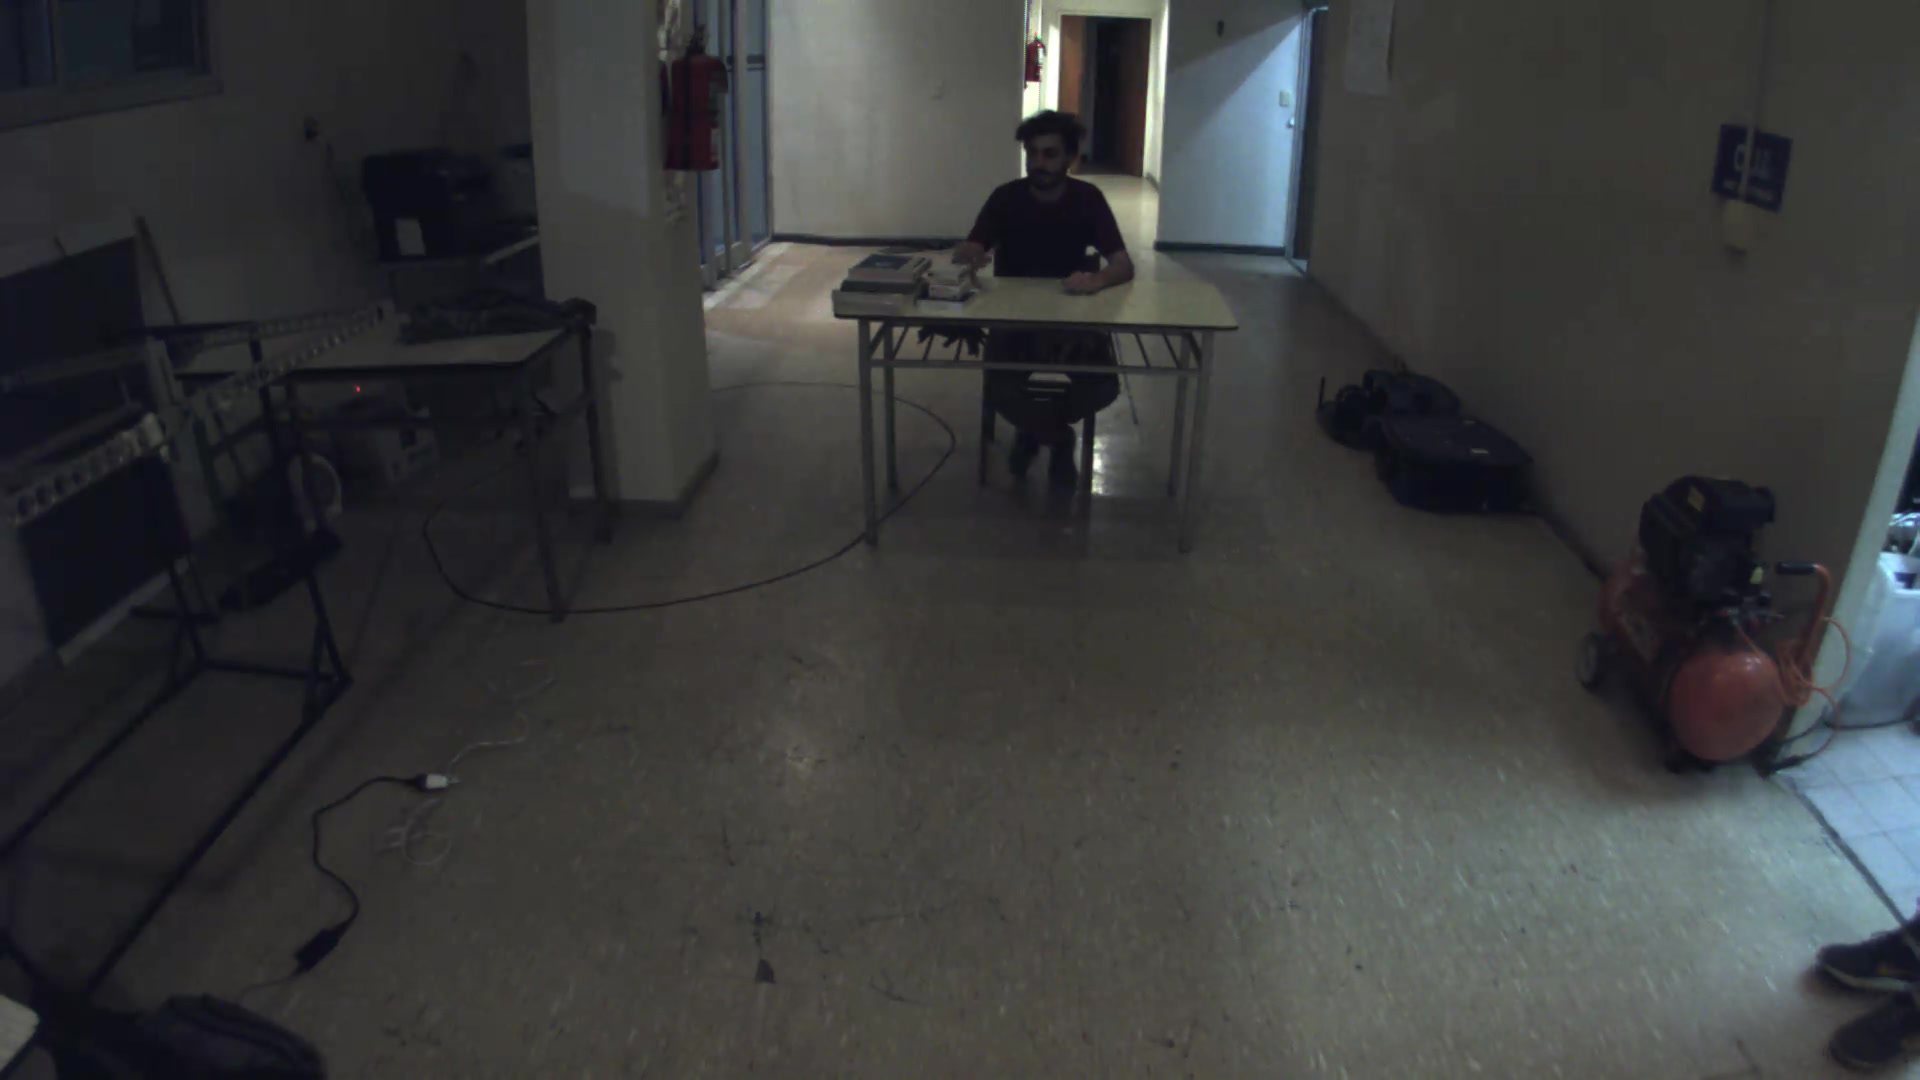hand: (1054, 251, 1127, 302), (931, 233, 996, 291)
